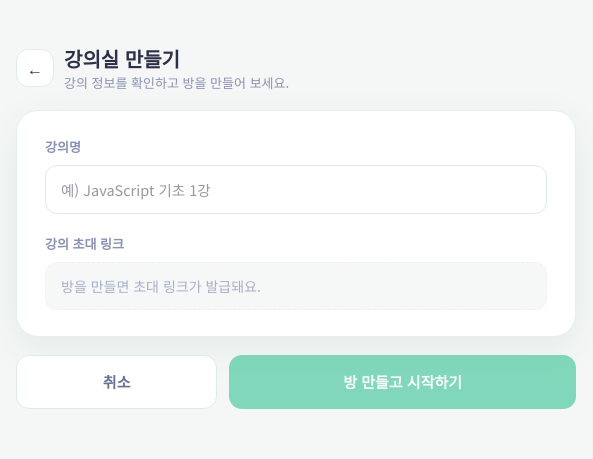
Test: CreateSetupScreen › 실패해도 다시 시도할 수 있게 버튼을 되살린다
Type "테스트 수업" into the field labelled "강의명" at [296, 190], box [45,165,547,214]
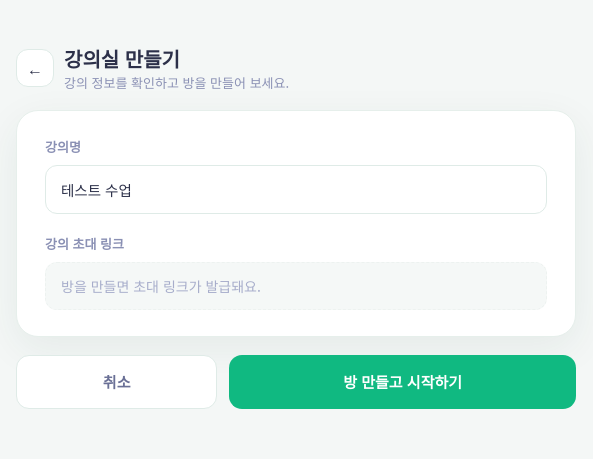
Click the button "방 만들고 시작하기" at [403, 382], box [229,355,576,409]
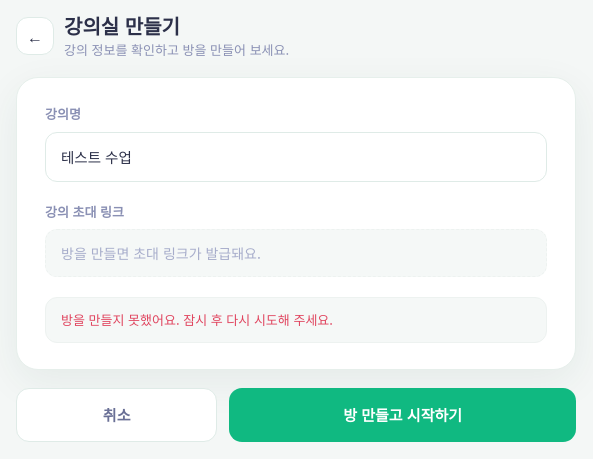
Now the button "방 만들고 시작하기" is enabled
Now the message "방을 만들지 못했어요. 잠시 후 다시 시도해 주세요." is shown, box [45,297,547,343]
Click the button "방 만들고 시작하기" at [403, 415], box [229,388,576,442]
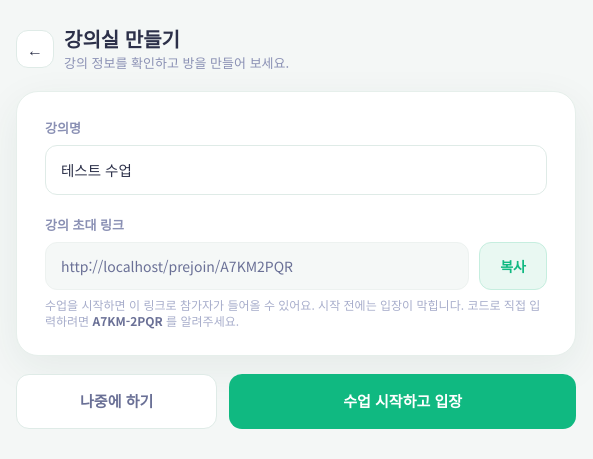
Now the button "수업 시작하고 입장" is shown, box [229,374,576,429]
